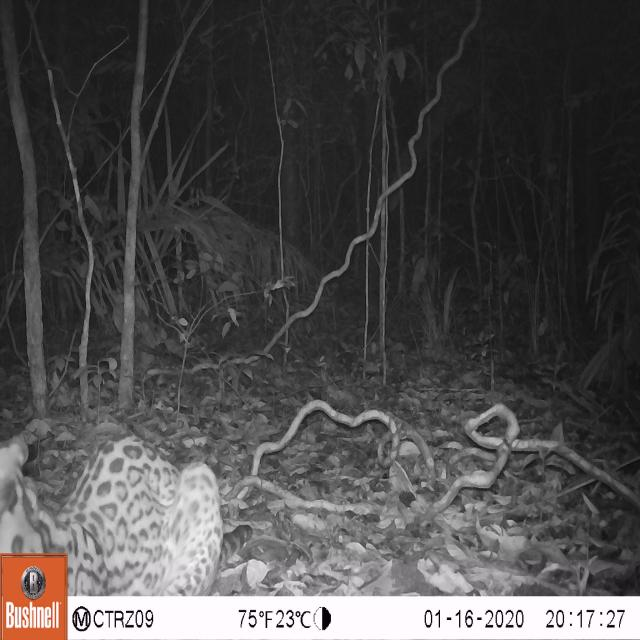Ocelote: (0, 416, 234, 597)
